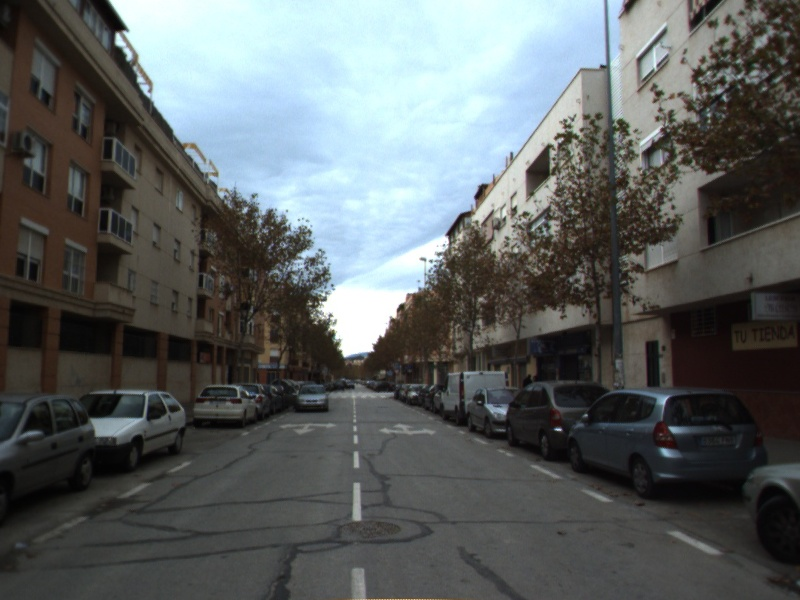STRAIGHT_LEFT_RIGHT: (377, 421, 438, 437)
